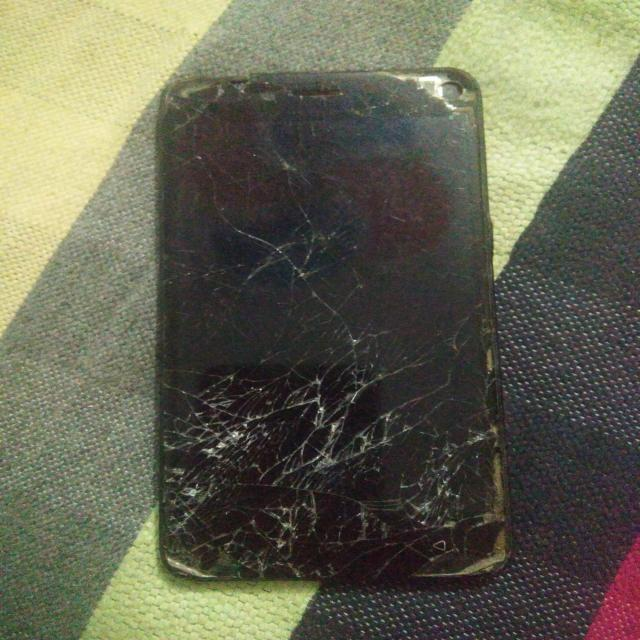Crack: (164, 79, 395, 396), (158, 392, 518, 569)
